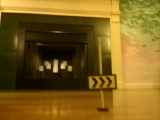right: (88, 75, 116, 88)
